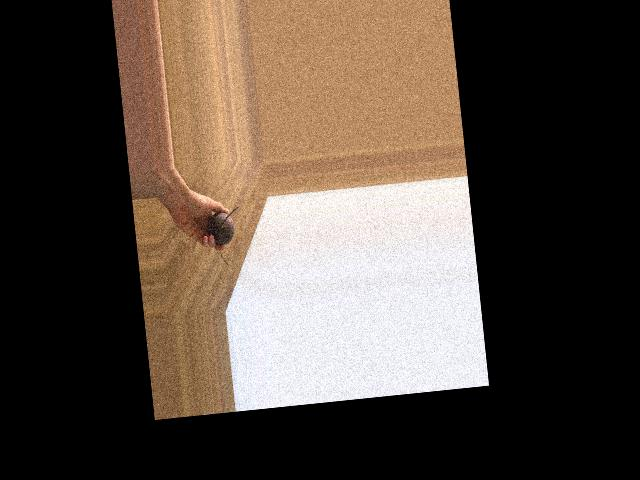beet: (206, 207, 243, 267)
